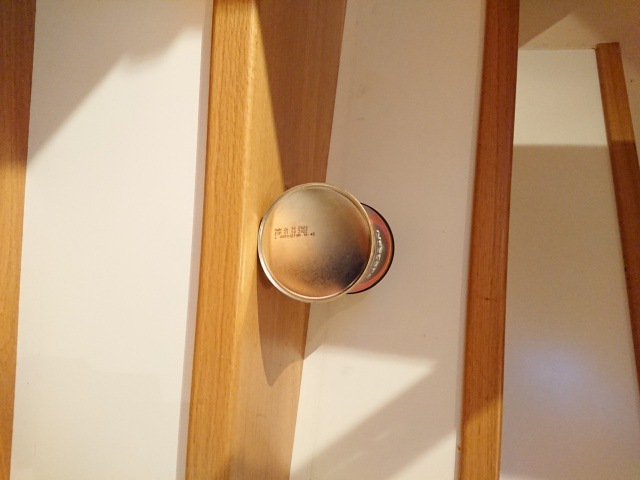Nescafe Classic 225g: (253, 179, 397, 308)
